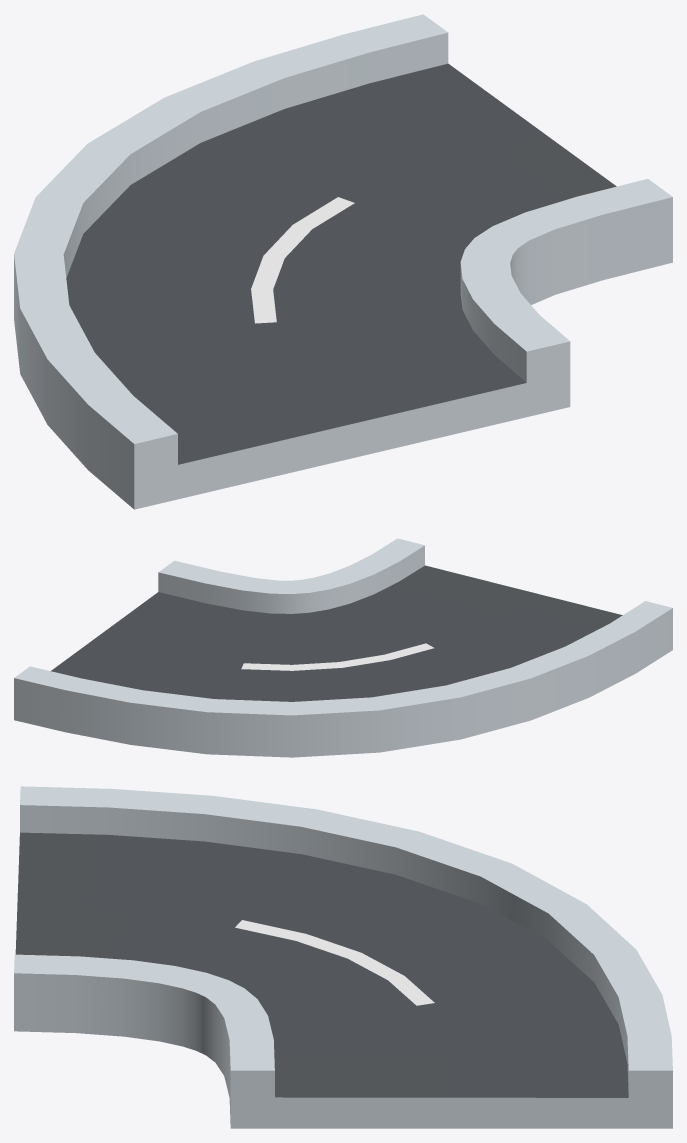
The model's file is Turn Left Road.fbx.
3 views of the same model, one above another, from view 1: azimuth 30°, elevation 25°; view 2: azimuth 150°, elevation 25°; view 3: azimuth 270°, elevation 25° (orthographic). The views are drawn at different scales.
Parts seen in each view (by area): view 1: polySurface926; view 2: polySurface926; view 3: polySurface926.
Boxes of the visible parts, box(x1,y1,x2,y2) form: polySurface926: box(14, 14, 672, 509); polySurface926: box(14, 538, 672, 757); polySurface926: box(14, 786, 672, 1128).
Size of the model in its own units: 73.9 by 7.05 by 72.44.
Materials: 1 (1 with a texture image).
